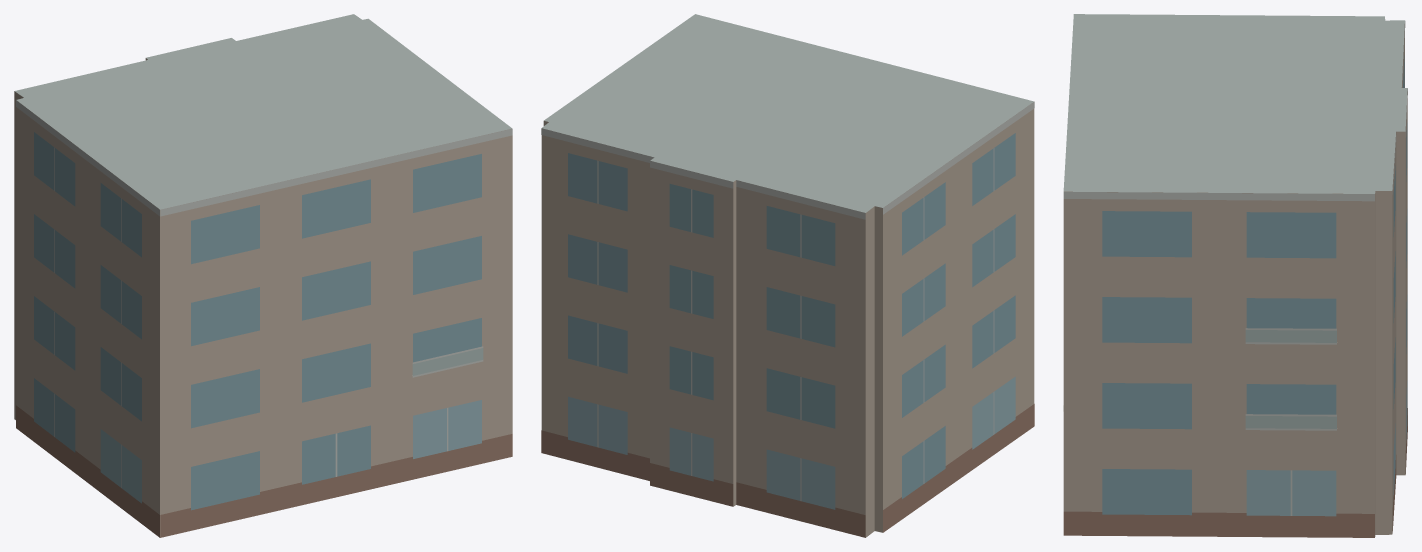
File: survey-upis-32727614.glb
3 views of the same model, side by side, from view 1: azimuth 30°, elevation 25°; view 2: azimuth 150°, elevation 25°; view 3: azimuth 270°, elevation 25° (orthographic). The views are drawn at different scales.
Parts seen in each view (by area): view 1: survey-upis-32727614.tmp; view 2: survey-upis-32727614.tmp; view 3: survey-upis-32727614.tmp.
Boxes of the visible parts, x1,y1,x2,y2 form: survey-upis-32727614.tmp: (14,14,512,537); survey-upis-32727614.tmp: (541,14,1034,537); survey-upis-32727614.tmp: (1063,14,1407,537).
Bounding box in the file's own units: 13.05 × 11.6 × 10.54.
